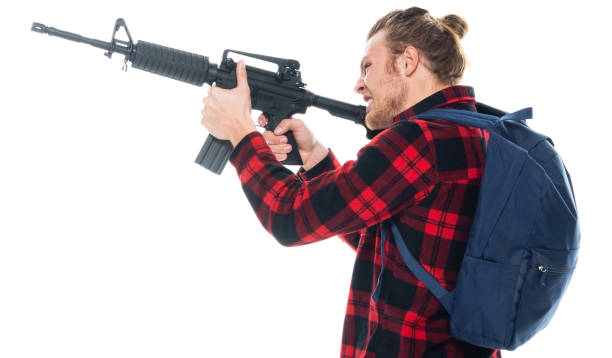rifle: (25, 13, 370, 182)
